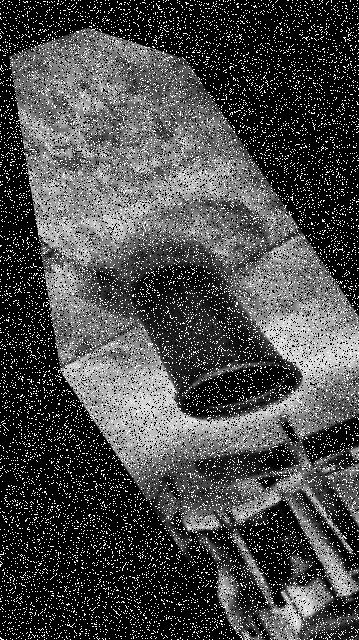pot: (132, 264, 301, 419)
